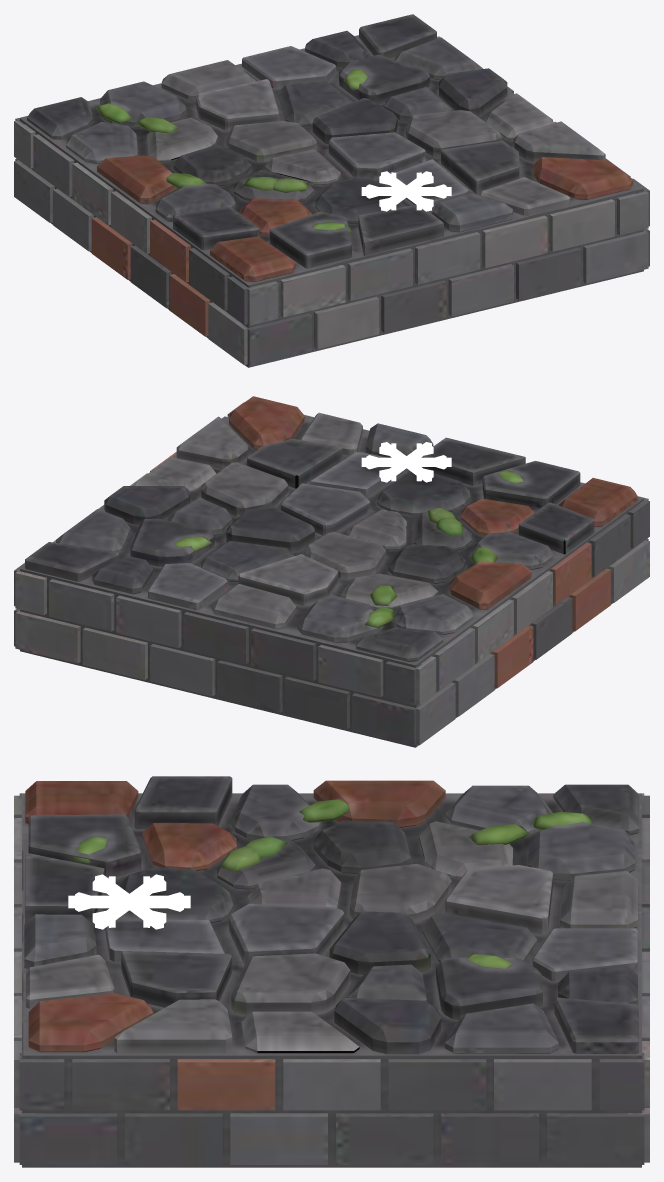
File: plate_1_ice.glb
The picture shows the model from 3 angles, top to bottom: view 1: azimuth 30°, elevation 25°; view 2: azimuth 150°, elevation 25°; view 3: azimuth 270°, elevation 25°; orthographic projection. The views are drawn at different scales.
Parts seen in each view (by area): view 1: plate_1_ice; view 2: plate_1_ice; view 3: plate_1_ice.
Boxes of the visible parts, bbox=[...] form: plate_1_ice: bbox=[14, 14, 649, 367]; plate_1_ice: bbox=[14, 396, 649, 747]; plate_1_ice: bbox=[14, 776, 649, 1167].
Size of the model in its own units: 2.01 by 0.484 by 2.01.
Materials: 1 (1 with a texture image).
